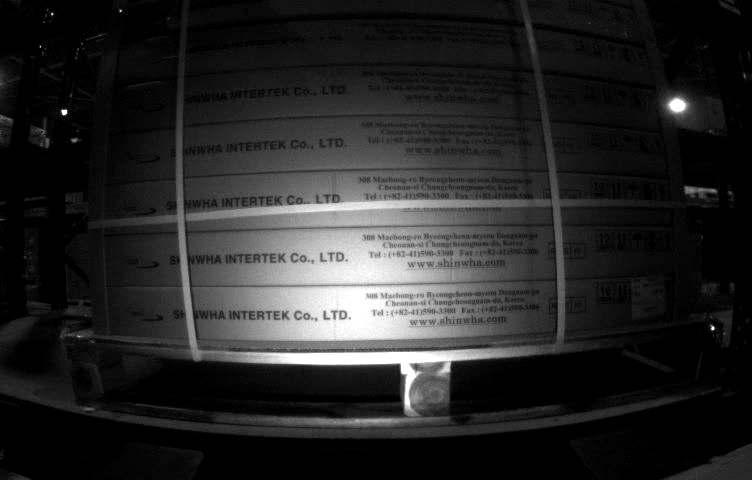True Barcode: (631, 275, 667, 317)
